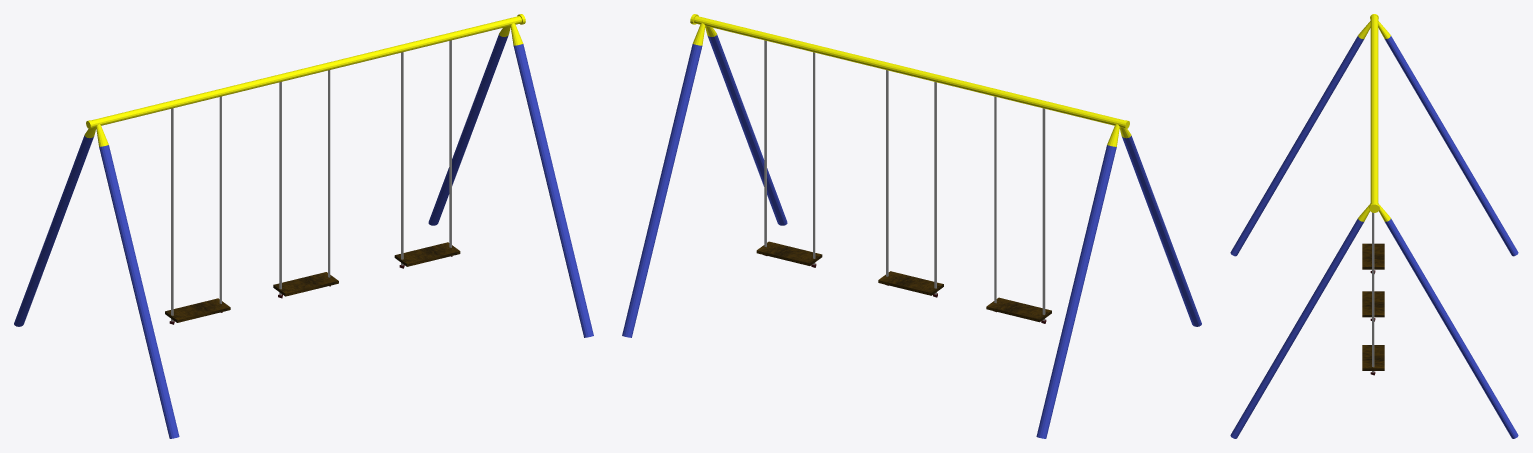
Rendered from BalancoLOD0 - Copy.fbx.
The picture shows the model from 3 angles, left to right: view 1: azimuth 30°, elevation 25°; view 2: azimuth 150°, elevation 25°; view 3: azimuth 270°, elevation 25°; orthographic projection. The views are drawn at different scales.
Visible parts, largest first — view 1: BalancoLOD0; view 2: BalancoLOD0; view 3: BalancoLOD0.
Part boxes in pixels (x1,y1,x2,y2): BalancoLOD0: (14, 14, 593, 438); BalancoLOD0: (622, 14, 1201, 438); BalancoLOD0: (1230, 14, 1518, 438).
Size of the model in its own units: 373 by 216 by 237.
